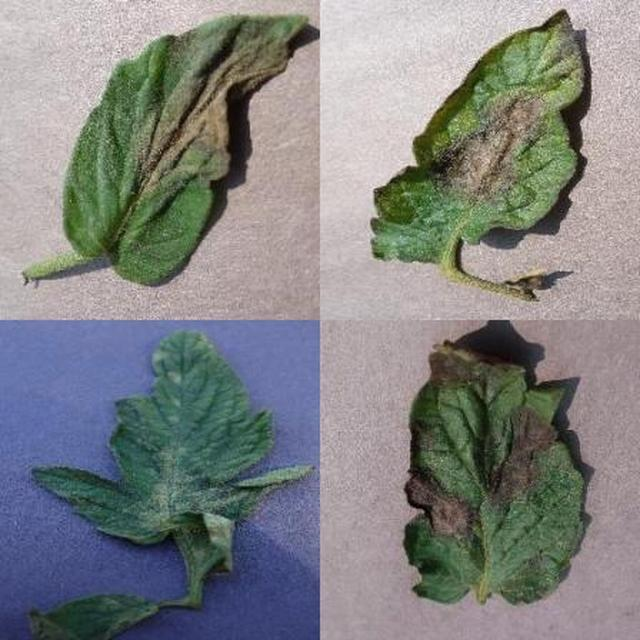Late Blight Leaf: (250, 196, 640, 640)
